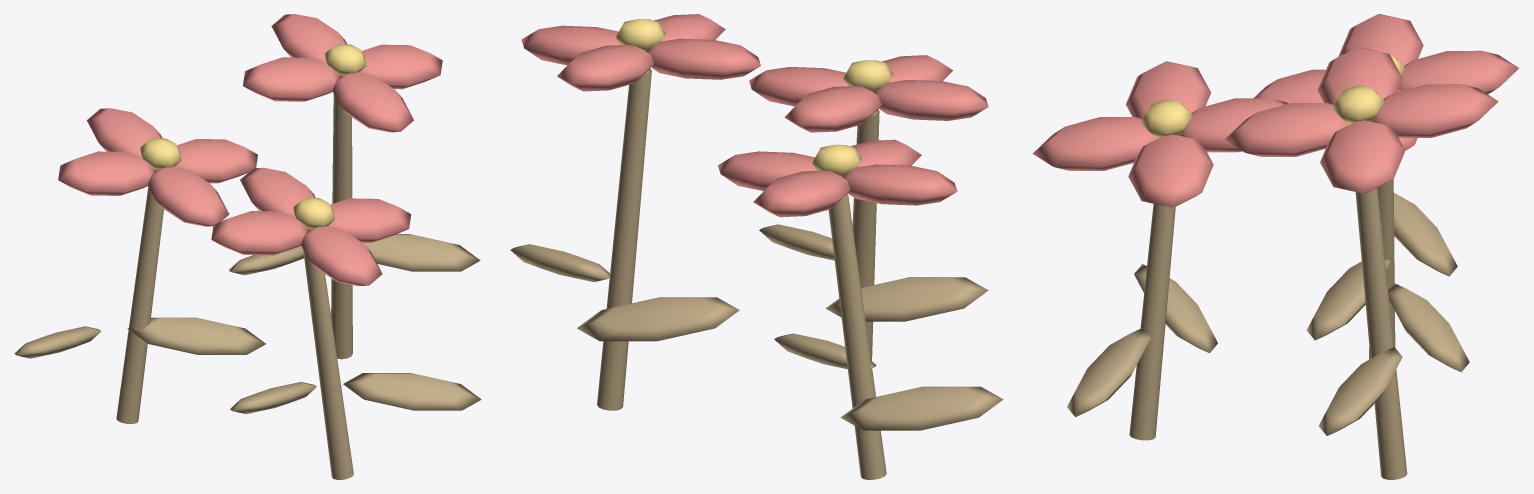
File: flower_4_autumn.glb
3 renders of one model, left to right at view 1: azimuth 30°, elevation 25°; view 2: azimuth 150°, elevation 25°; view 3: azimuth 270°, elevation 25°, orthographic. The views are drawn at different scales.
Bounding box in the file's own units: 0.5021 × 0.3699 × 0.4064.
